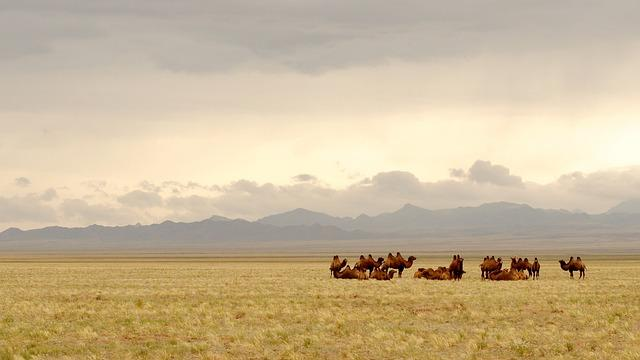Non_Gorille: (95, 16, 607, 358)
